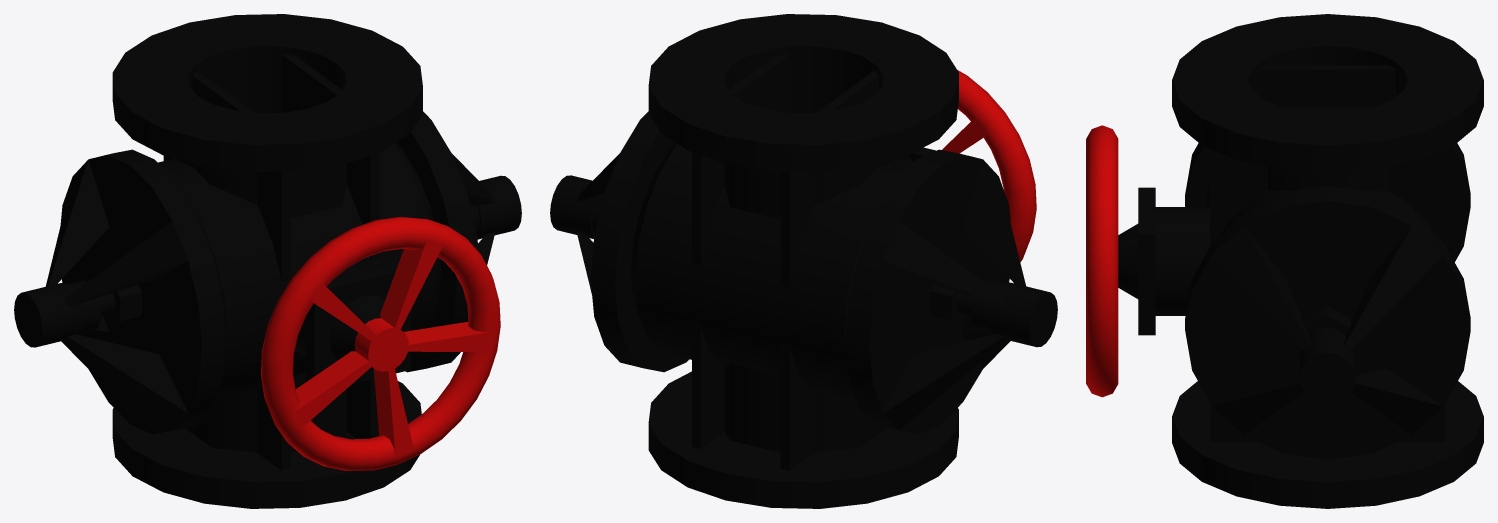
The model's file is valve.FBX.
3 views of the same model, side by side, from view 1: azimuth 30°, elevation 25°; view 2: azimuth 150°, elevation 25°; view 3: azimuth 270°, elevation 25° (orthographic).
Parts seen in each view (by area): view 1: Cylinder009, Cylinder013, Torus001, ChamferCyl001, Cylinder015, Cylinder012, Cylinder017, Cylinder006, Box001, Box002, Box003, Cylinder011 (+3 smaller); view 2: ChamferCyl001, Cylinder009, Cylinder013, Cylinder015, Cylinder012, Cylinder006, Box001, Box002, Torus001, Cylinder011, Cylinder010, Cylinder007 (+1 smaller); view 3: Cylinder006, Cylinder013, Cylinder015, Torus001, Box001, Box002, Cylinder016, Cylinder009, Cylinder012, Cylinder010, Box003, ChamferCyl001 (+2 smaller).
Part boxes in pixels (x1,y1,x2,y2): Cylinder009: [46, 149, 225, 434]; Cylinder013: [112, 14, 422, 171]; Torus001: [260, 217, 500, 470]; ChamferCyl001: [158, 143, 441, 400]; Cylinder015: [112, 381, 421, 508]; Cylinder012: [175, 43, 356, 452]; Cylinder017: [293, 240, 491, 456]; Cylinder006: [396, 111, 495, 372]; Box001: [281, 54, 379, 438]; Box002: [163, 71, 290, 470]; Box003: [305, 263, 410, 383]; Cylinder011: [14, 283, 82, 347]; ChamferCyl001: [630, 143, 913, 399]; Cylinder009: [845, 149, 1025, 434]; Cylinder013: [648, 14, 958, 171]; Cylinder015: [648, 371, 958, 508]; Cylinder012: [712, 46, 895, 452]; Cylinder006: [576, 111, 688, 372]; Box001: [692, 54, 789, 448]; Box002: [780, 71, 907, 470]; Torus001: [957, 70, 1036, 262]; Cylinder011: [989, 282, 1057, 347]; Cylinder010: [550, 175, 594, 238]; Cylinder007: [929, 285, 967, 323]; Cylinder006: [1185, 189, 1470, 459]; Cylinder013: [1172, 14, 1483, 172]; Cylinder015: [1172, 381, 1483, 508]; Torus001: [1086, 125, 1118, 397]; Box001: [1210, 108, 1445, 441]; Box002: [1260, 65, 1396, 108]; Cylinder016: [1155, 207, 1209, 315]; Cylinder009: [1185, 143, 1470, 261]; Cylinder012: [1242, 57, 1413, 191]; Cylinder010: [1299, 333, 1355, 403]; Box003: [1138, 187, 1155, 335]; ChamferCyl001: [1205, 180, 1450, 254].
Size of the model in its own units: 124 by 90 by 89.3.
